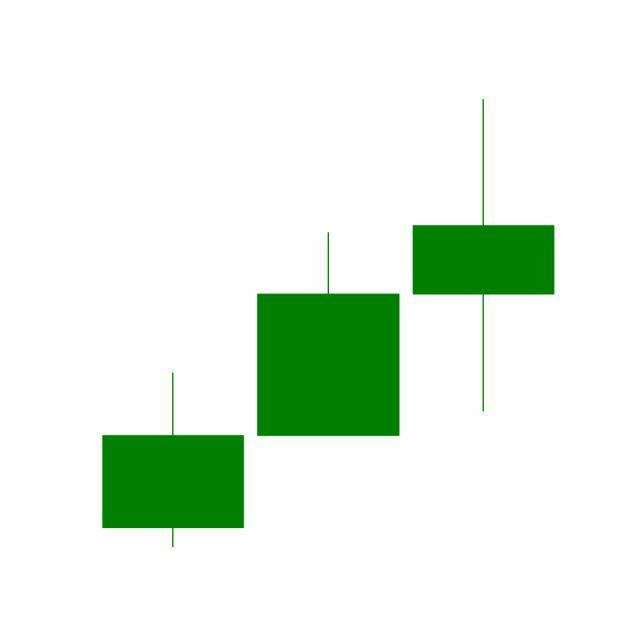Spinning Top: (406, 97, 562, 417)
